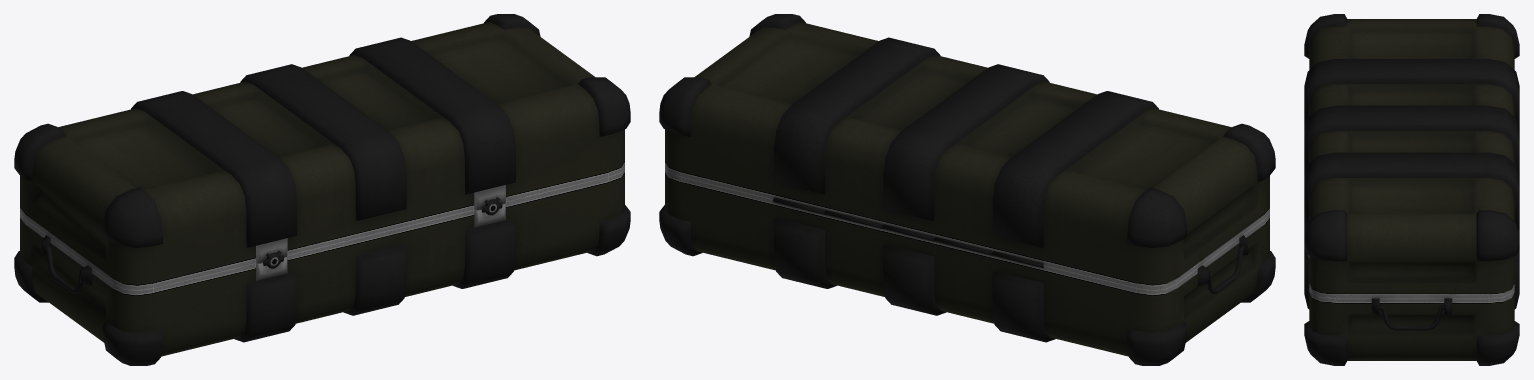
Rendered from AmmoBox.fbx.
The picture shows the model from 3 angles, left to right: view 1: azimuth 30°, elevation 25°; view 2: azimuth 150°, elevation 25°; view 3: azimuth 270°, elevation 25°; orthographic projection. The views are drawn at different scales.
Parts seen in each view (by area): view 1: ammo_LOW; view 2: ammo_LOW; view 3: ammo_LOW.
Boxes of the visible parts, bbox=[...] form: ammo_LOW: bbox=[14, 14, 630, 365]; ammo_LOW: bbox=[659, 14, 1275, 365]; ammo_LOW: bbox=[1304, 14, 1519, 365].
Size of the model in its own units: 206 by 63.99 by 84.
Materials: 1 (1 with a texture image).
